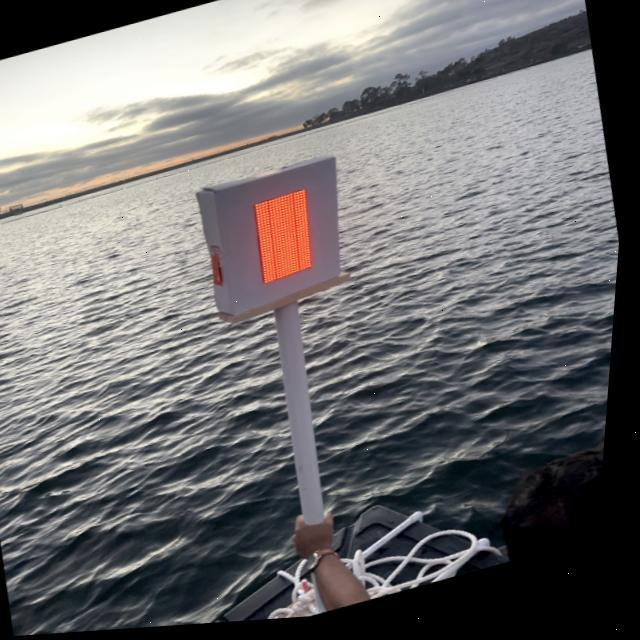led: (242, 184, 340, 295)
